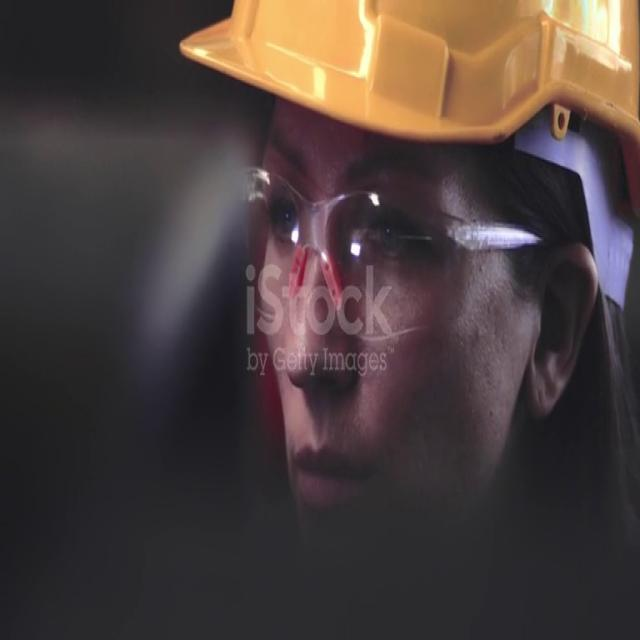capacete: (166, 0, 640, 261)
